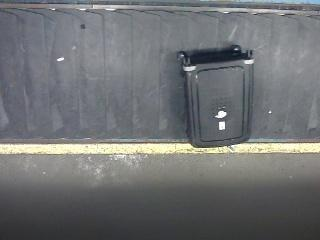Suitcase: (178, 45, 252, 148)
